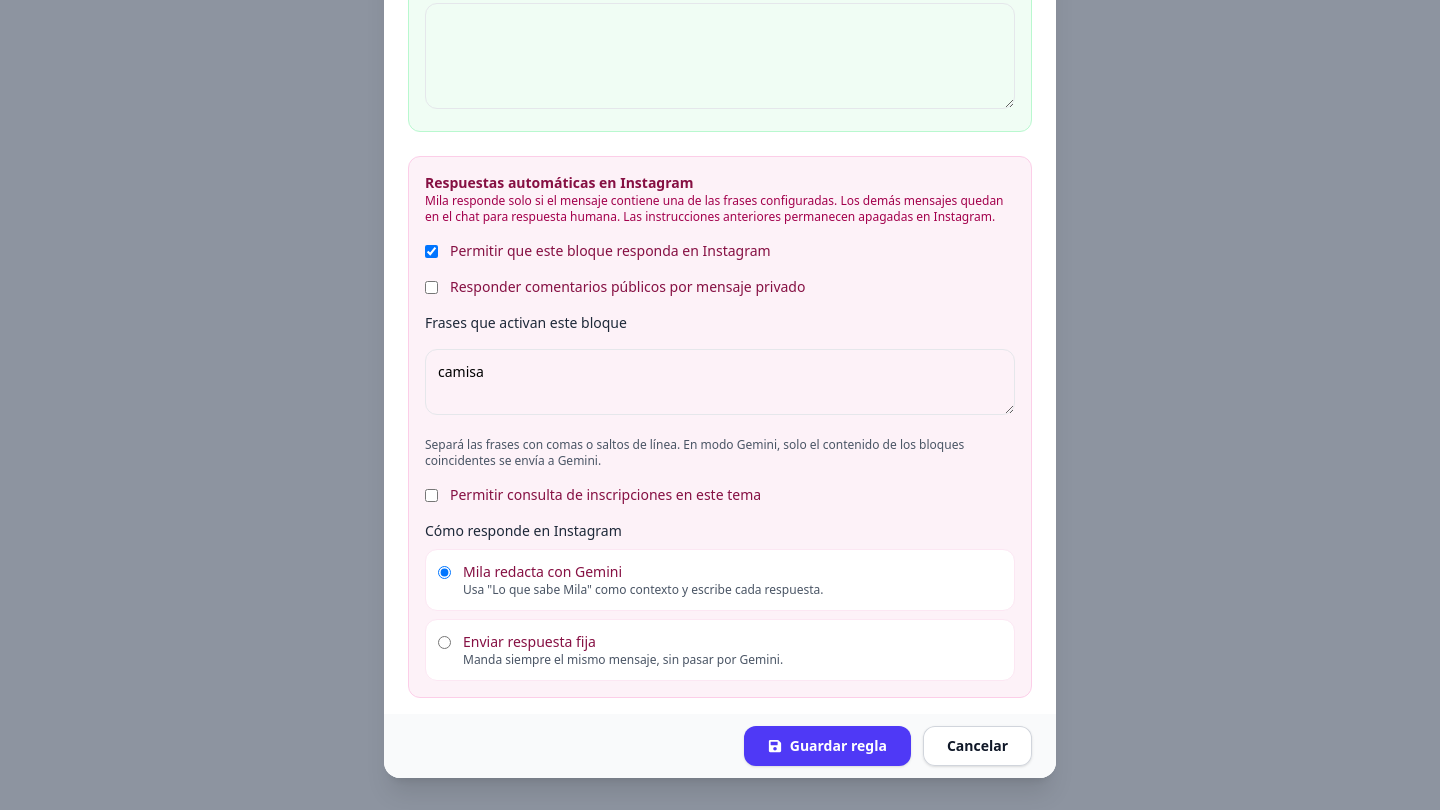
Scenario: InstructionModal › Instagram reply mode › shows the fixed message only in fixed mode and says it is sent as is, without Gemini
(page scrolled)
Click the radio button labelled "Enviar respuesta fija": [444, 642] box [438,636,451,649]
(page scrolled)
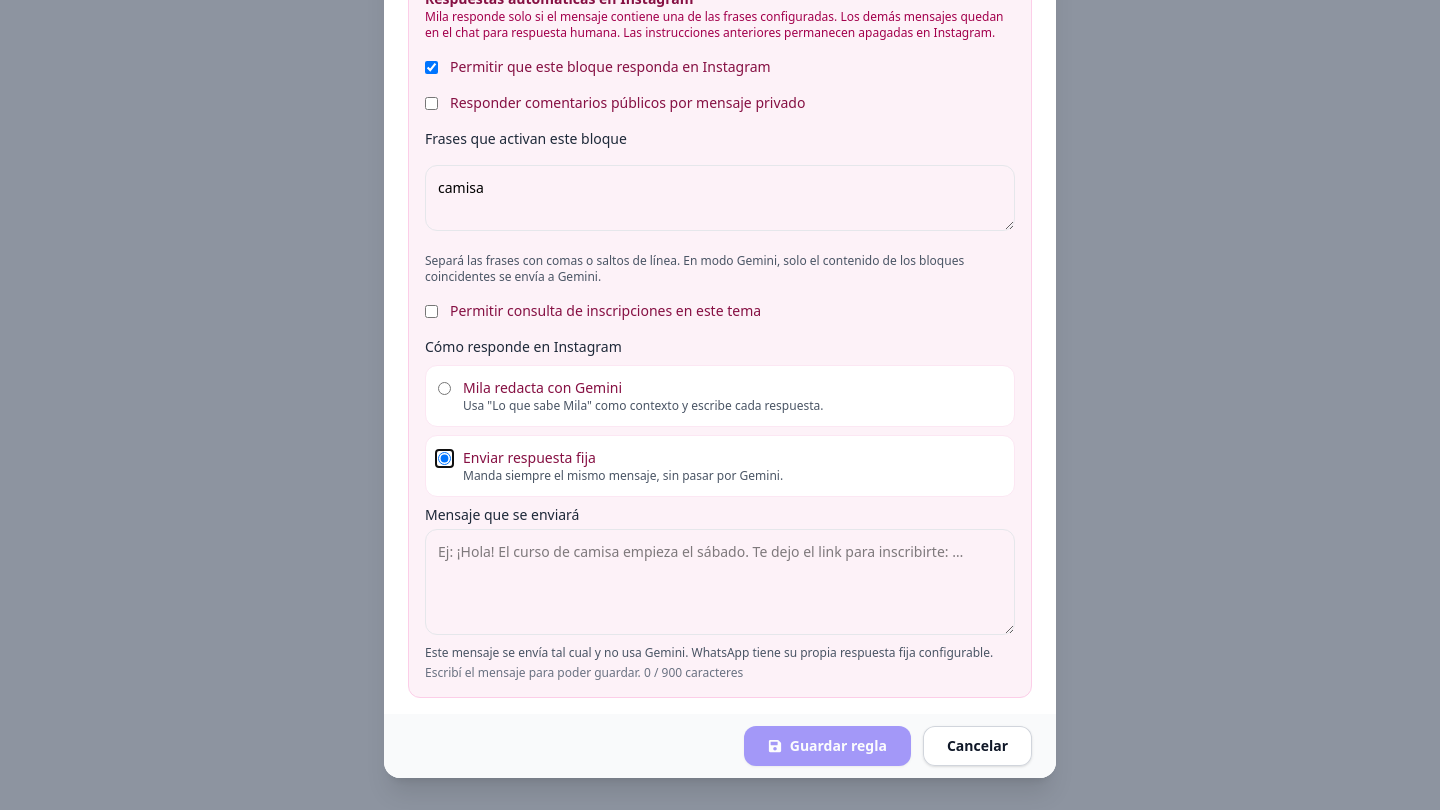
Check: the text box labelled "Mensaje que se enviará" is shown, box [425,529,1015,635]
Check: the text "se envía tal cual y no usa Gemini" is shown, box [425,644,993,661]
